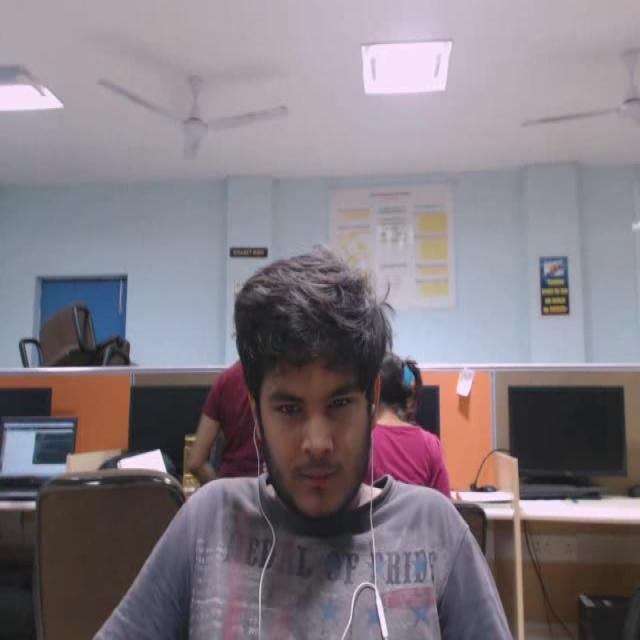Engaged: (210, 218, 400, 554)
